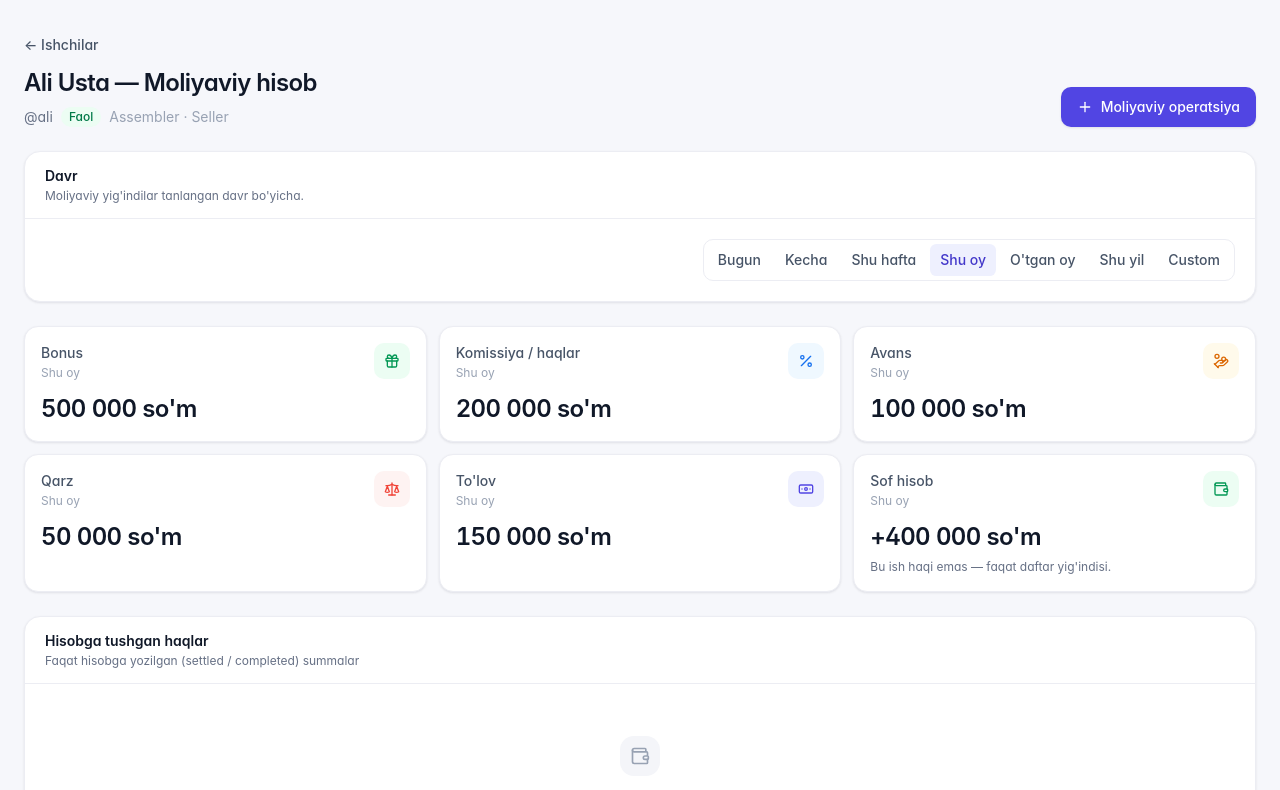
Test: WorkerFinancesPage › opens create dialog with BONUS default and store-timezone date
Click the button "Moliyaviy operatsiya".
click(1158, 107)  # box top-left (1061, 87), bottom-right (1256, 127)
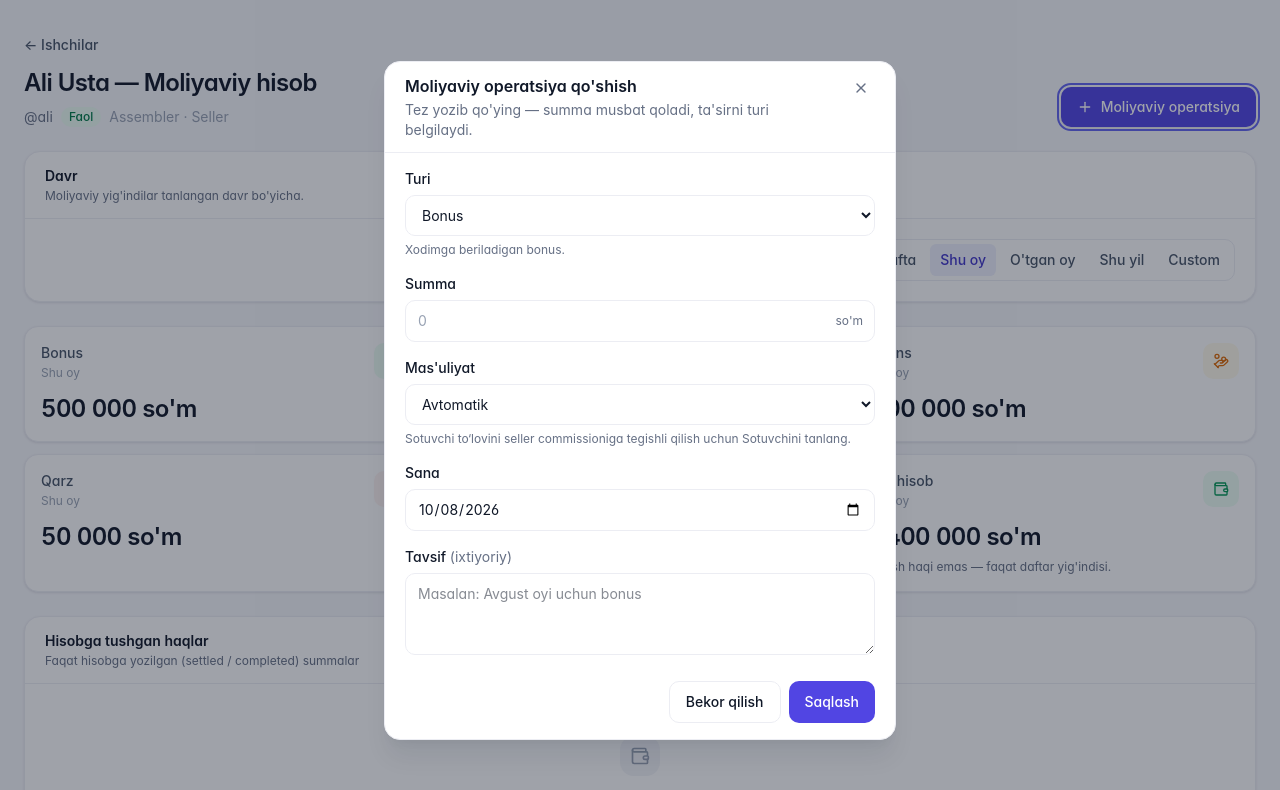
expect the heading "Moliyaviy operatsiya qo'shish" is shown: met, box top-left (405, 76), bottom-right (637, 96)
expect the dropdown labelled "Turi" shows "Bonus": met, box top-left (405, 194), bottom-right (875, 236)
